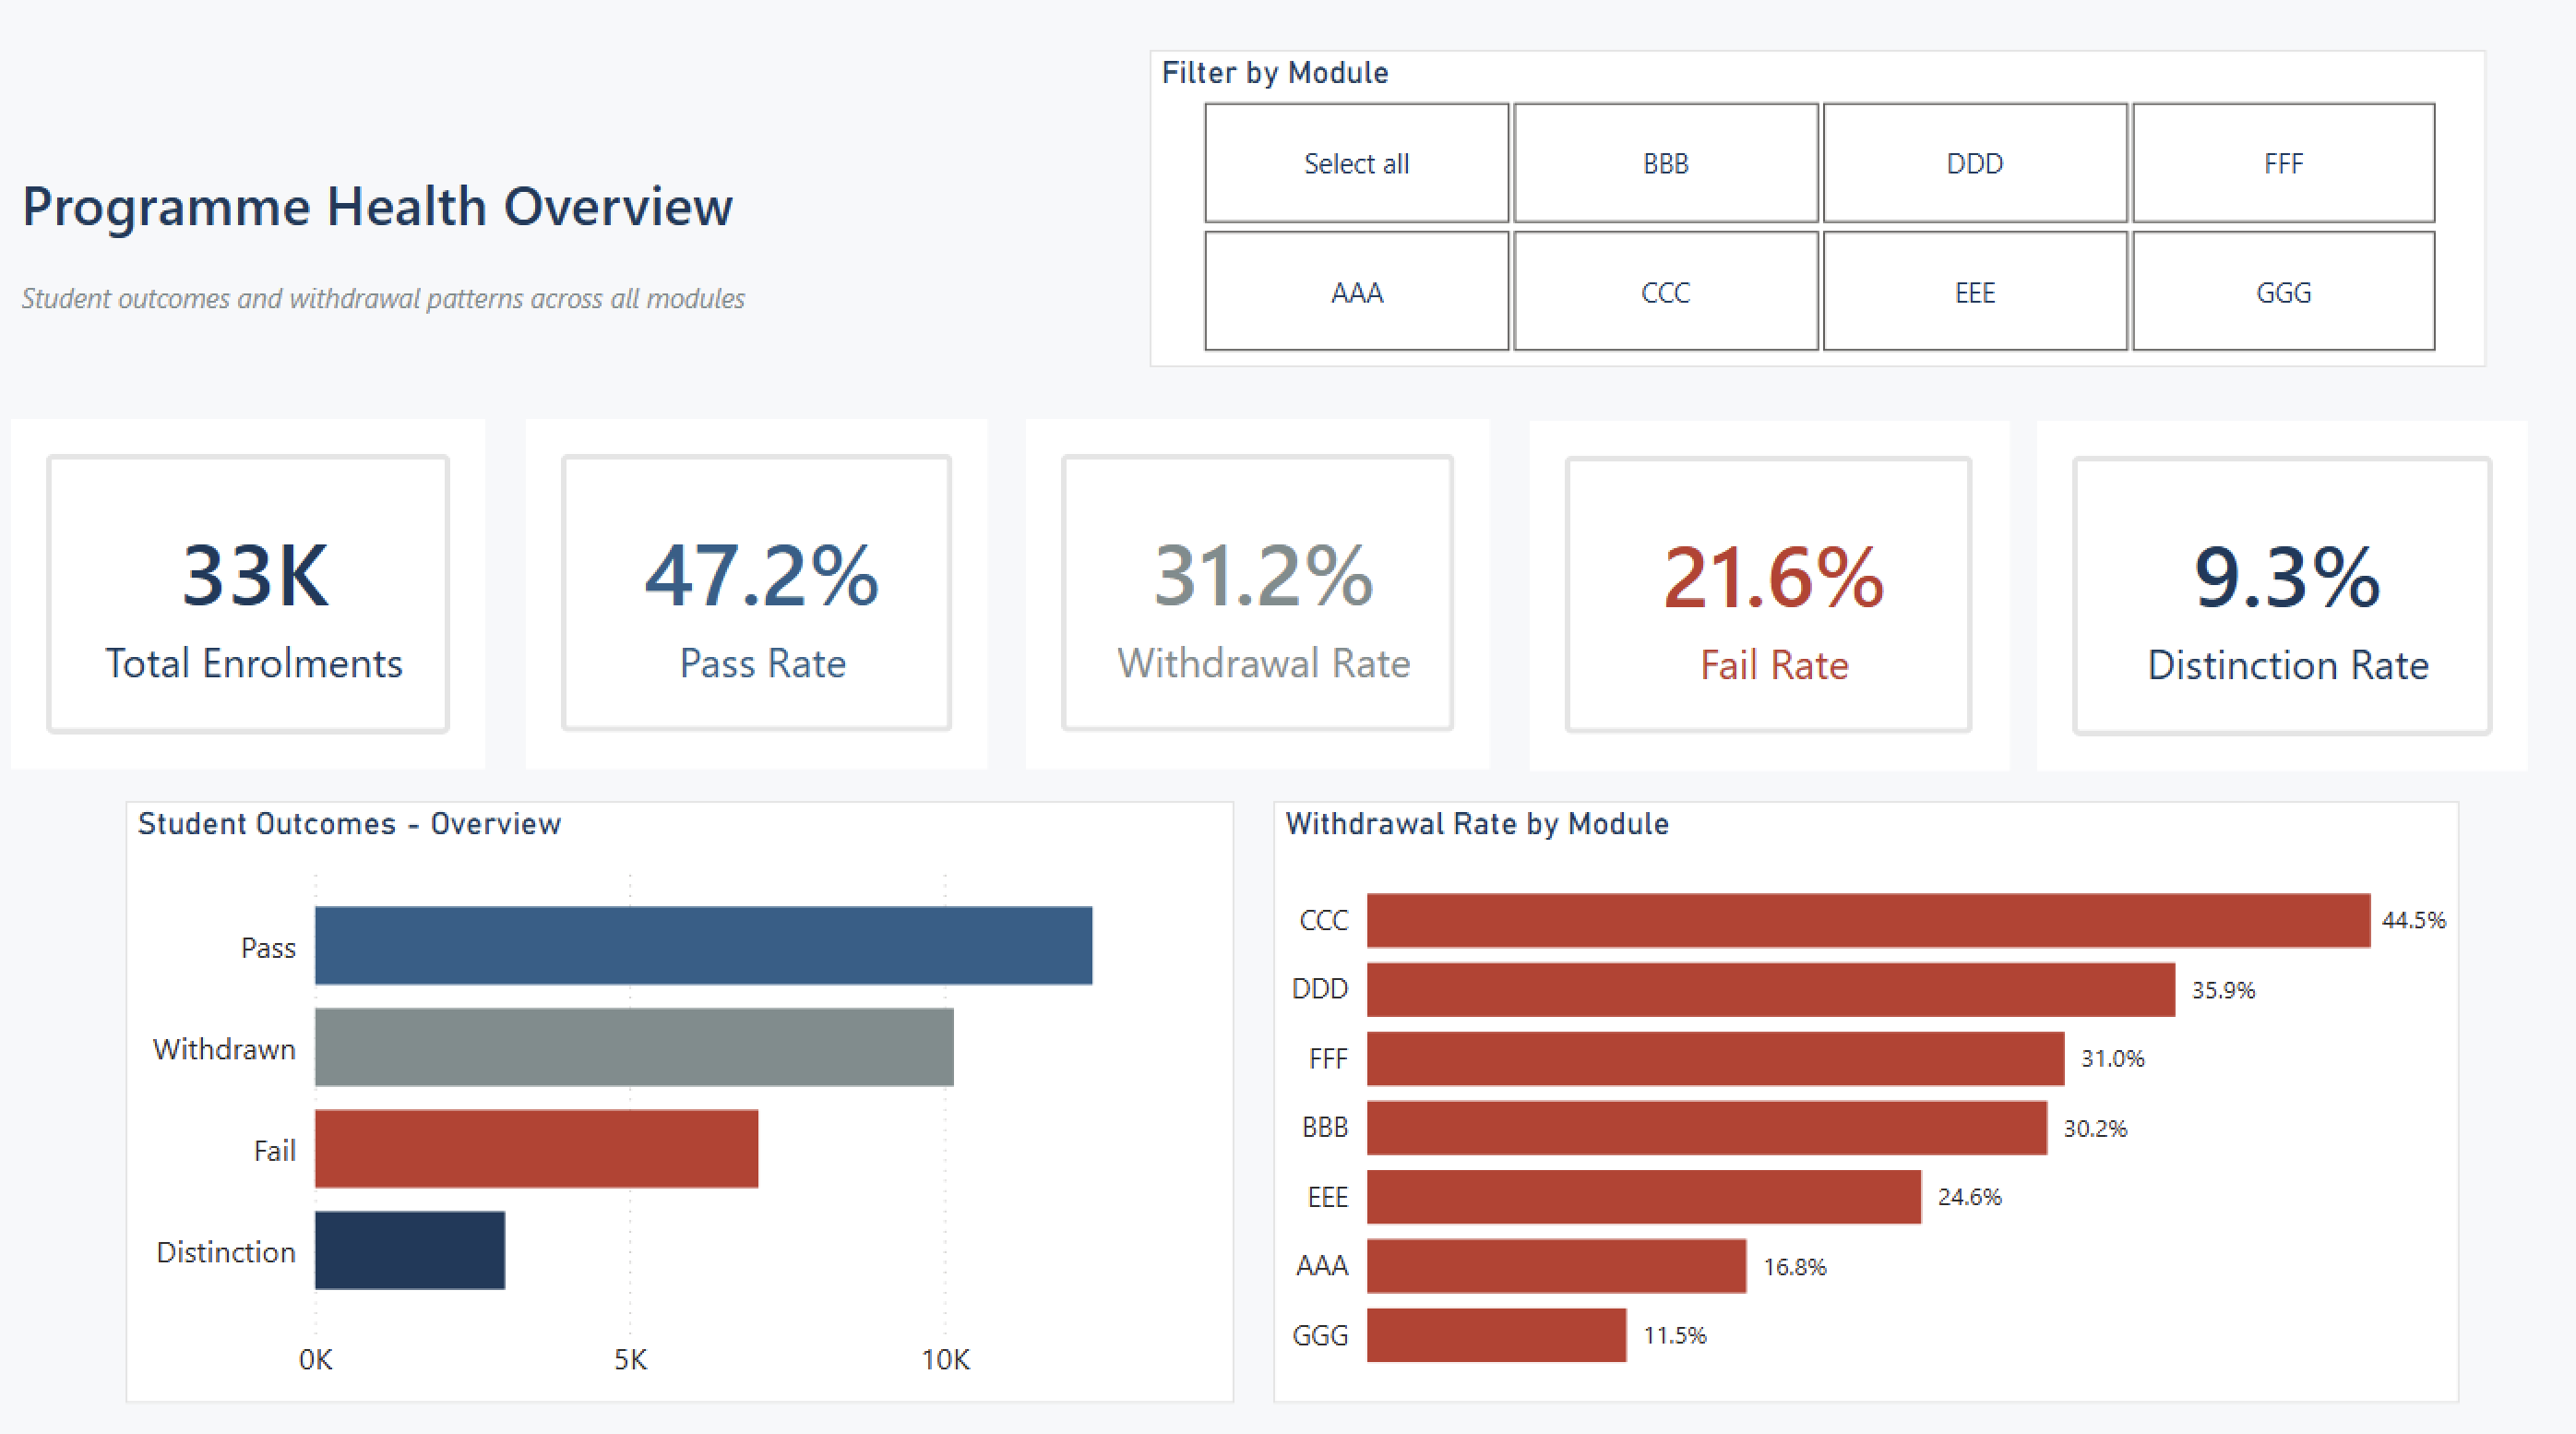

This screenshot's page, from the dashboard's own definition file:
{"tool":"powerbi","page":{"name":"Programme Overview","canvas":[1280,720],"ordinal":0},"visuals":[{"type":"cardVisual","fields":{"Data":["studentInfo_clean.Pass Rate"]},"box":[262,211.6,227.5,171.5],"z":0},{"type":"cardVisual","fields":{"Data":["studentInfo_clean.Total Enrolments"]},"box":[9.3,211.6,233.1,172.5],"z":1000},{"type":"cardVisual","fields":{"Data":["studentInfo_clean.Distinction Rate"]},"box":[1005,212.6,241.5,172.5],"z":2000},{"type":"cardVisual","fields":{"Data":["studentInfo_clean.Withdrawal Rate"]},"box":[508.1,211.6,228.4,171.5],"z":3000},{"type":"clusteredBarChart","title":"Student Outcomes - Overview","fields":{"Category":["studentInfo_clean.final_result"],"Y":["studentInfo_clean.Total Enrolments"]},"box":[65.3,399,545,295.6],"z":4000},{"type":"cardVisual","fields":{"Data":["studentInfo_clean.Fail Rate"]},"box":[755.1,212.6,235.9,171.5],"z":5000},{"type":"slicer","title":"Filter by Module","fields":{"Values":["studentInfo_clean.code_module"]},"box":[568.6,29.9,657.4,156],"z":6000},{"type":"clusteredBarChart","title":"Withdrawal Rate by Module","fields":{"Y":["studentInfo_clean.Withdrawal Rate"],"Category":["studentInfo_clean.code_module"]},"box":[629.2,399.2,582.8,296],"z":7000},{"type":"textbox","box":[9.3,82.5,391.9,55.7],"z":8000},{"type":"textbox","box":[9.3,138.2,456.9,48.5],"z":9000}]}

Visuals, with their boxes in screenshot pixels (x1, y1, x2, y2), scaled from the page's 1280x720 canvas onto the 2576x1434 screenshot:
cardVisual - studentInfo_clean.Pass Rate: 527,422,985,763
cardVisual - studentInfo_clean.Total Enrolments: 18,422,488,765
cardVisual - studentInfo_clean.Distinction Rate: 2022,424,2509,767
cardVisual - studentInfo_clean.Withdrawal Rate: 1022,422,1482,763
"Student Outcomes - Overview" clusteredBarChart: 131,795,1228,1383
cardVisual - studentInfo_clean.Fail Rate: 1520,424,1995,765
"Filter by Module" slicer: 1144,60,2467,370
"Withdrawal Rate by Module" clusteredBarChart: 1266,795,2439,1384
textbox: 18,164,807,275
textbox: 18,275,938,372
